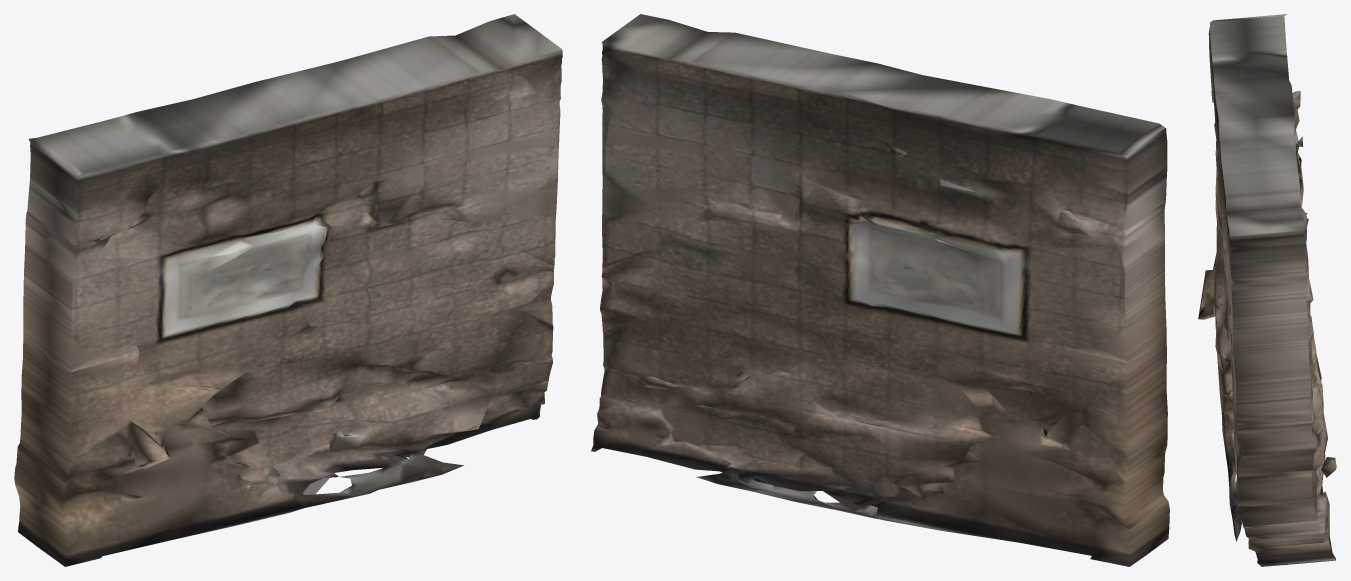
File: WallC.fbx
3 renders of one model, left to right at view 1: azimuth 30°, elevation 25°; view 2: azimuth 150°, elevation 25°; view 3: azimuth 270°, elevation 25°, orthographic. The views are drawn at different scales.
Visible parts, largest first — view 1: WallC; view 2: WallC; view 3: WallC.
Part boxes in pixels (x1,y1,x2,y2): WallC: [14, 14, 562, 566]; WallC: [591, 14, 1169, 566]; WallC: [1198, 14, 1336, 566].
Bounding box in the file's own units: 781 × 599 × 210.
